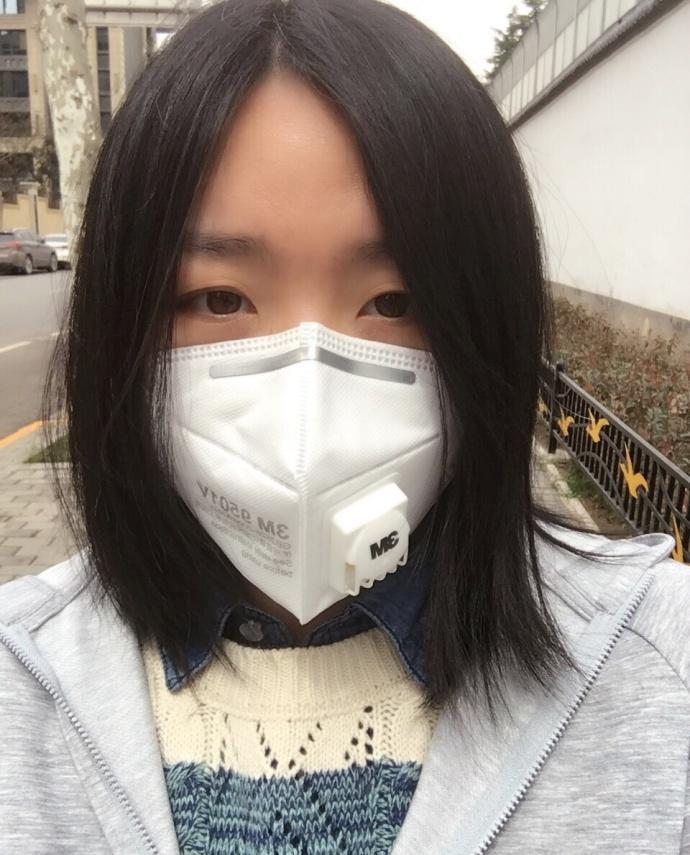OK: (106, 212, 496, 598)
